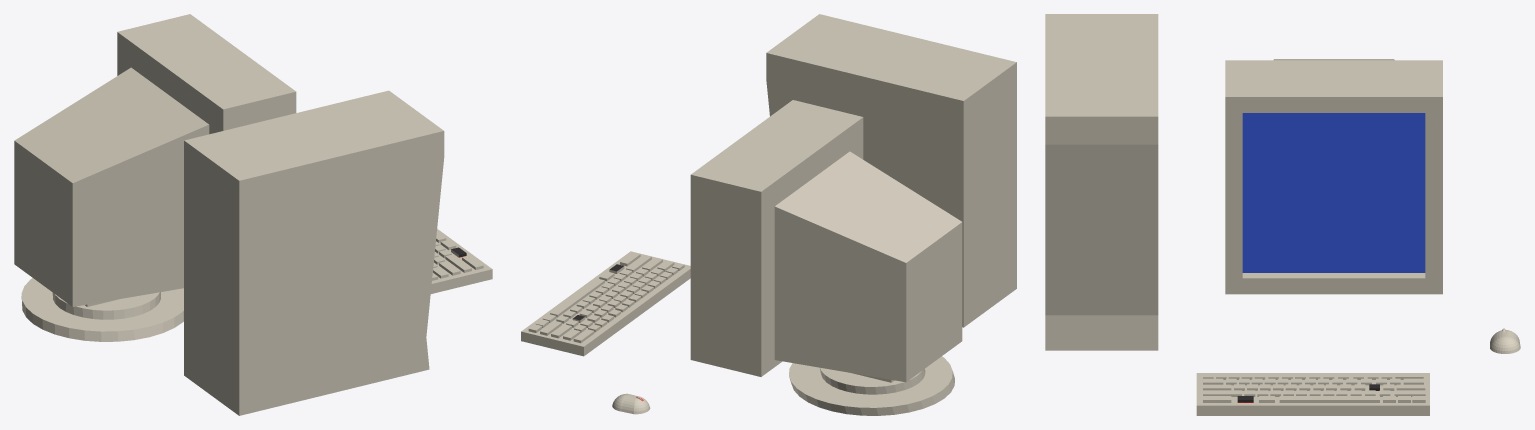
File: computerblue.fbx
3 renders of one model, left to right at view 1: azimuth 30°, elevation 25°; view 2: azimuth 150°, elevation 25°; view 3: azimuth 270°, elevation 25°, orthographic. The views are drawn at different scales.
Parts seen in each view (by area): view 1: Cube.019, Cube.021, Cube.020; view 2: Cube.021, Cube.019, Cube.020, Sphere.003; view 3: Cube.021, Cube.019, Cube.020, Sphere.003.
Boxes of the visible parts, <box> form: Cube.019: <box>184,90,444,415</box>; Cube.021: <box>14,14,296,341</box>; Cube.020: <box>430,229,492,293</box>; Cube.021: <box>690,100,962,415</box>; Cube.019: <box>766,14,1016,327</box>; Cube.020: <box>521,251,690,356</box>; Sphere.003: <box>612,393,650,414</box>; Cube.021: <box>1225,59,1442,294</box>; Cube.019: <box>1045,14,1158,350</box>; Cube.020: <box>1196,373,1429,415</box>; Sphere.003: <box>1490,328,1520,353</box>.
Bounding box in the file's own units: 131 × 75.24 × 133.
3 materials, 3 textured.
